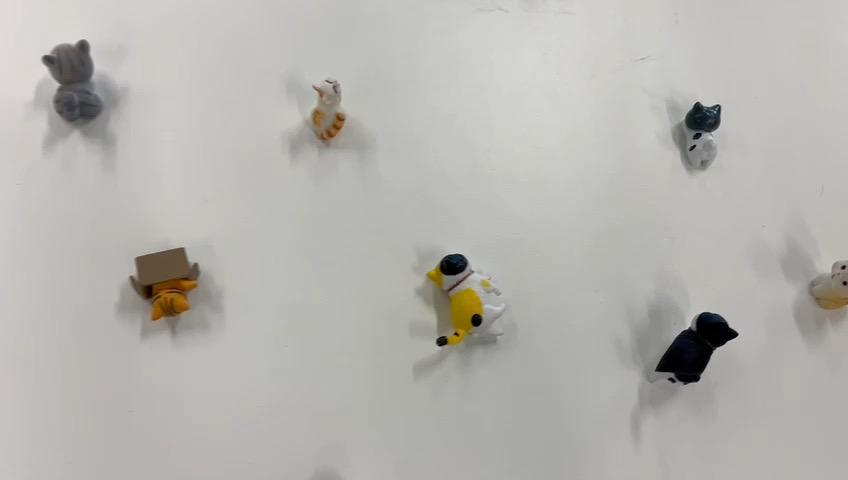pet: (381, 236, 516, 352), (106, 239, 217, 355), (636, 279, 742, 391), (43, 34, 123, 150), (656, 84, 742, 188), (311, 56, 363, 165)
